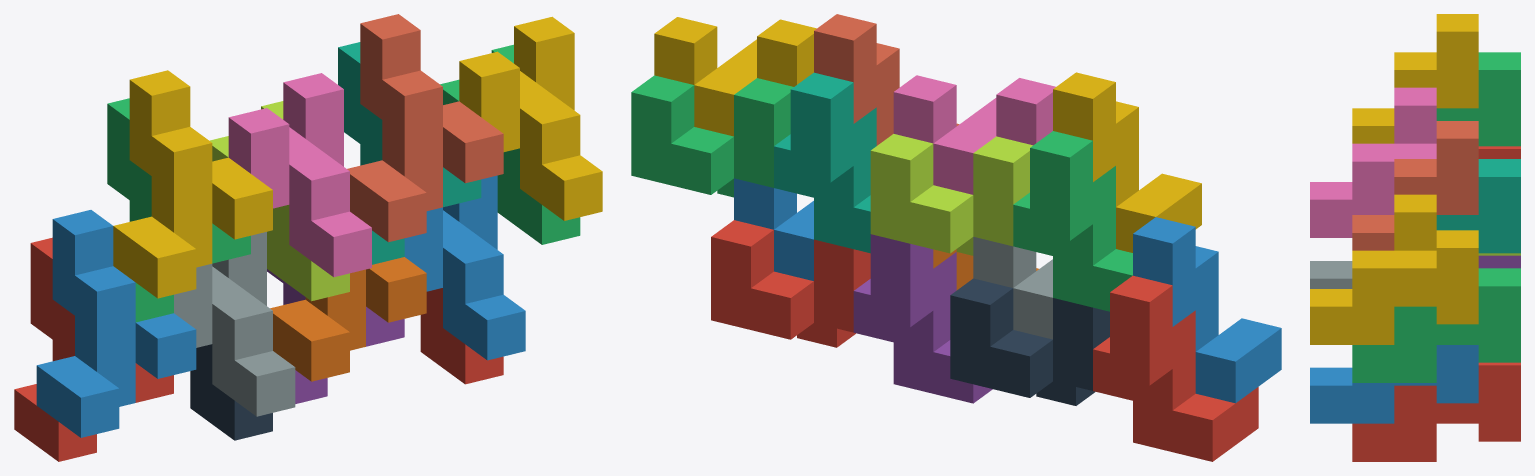
The model's file is tiling.obj.
3 renders of one model, left to right at view 1: azimuth 30°, elevation 25°; view 2: azimuth 150°, elevation 25°; view 3: azimuth 270°, elevation 25°, orthographic. The views are drawn at different scales.
Parts seen in each view (by area): view 1: copy_1_domain_4, copy_1_domain_8, copy_1_domain_2, copy_2_domain_8, copy_2_domain_4, copy_2_domain_6, copy_2_domain_2, copy_1_domain_6, copy_1_domain_1, copy_1_domain_3, copy_1_domain_7, copy_2_domain_7 (+4 smaller); view 2: copy_1_domain_1, copy_2_domain_3, copy_2_domain_7, copy_1_domain_3, copy_2_domain_1, copy_2_domain_5, copy_1_domain_7, copy_1_domain_5, copy_1_domain_2, copy_1_domain_4, copy_2_domain_4, copy_2_domain_8 (+4 smaller); view 3: copy_2_domain_8, copy_2_domain_7, copy_2_domain_5, copy_2_domain_4, copy_1_domain_4, copy_1_domain_8, copy_2_domain_6, copy_1_domain_7, copy_1_domain_3, copy_2_domain_2, copy_1_domain_5, copy_1_domain_1.
Boxes of the visible parts, x1,y1,x2,y2 form: copy_1_domain_4: [113, 70, 272, 298]; copy_1_domain_8: [347, 14, 503, 242]; copy_1_domain_2: [36, 210, 196, 437]; copy_2_domain_8: [459, 16, 602, 220]; copy_2_domain_4: [228, 73, 371, 277]; copy_2_domain_6: [404, 175, 525, 360]; copy_2_domain_2: [174, 232, 295, 416]; copy_1_domain_6: [270, 257, 426, 381]; copy_1_domain_1: [14, 237, 173, 461]; copy_1_domain_3: [107, 98, 250, 322]; copy_1_domain_7: [338, 42, 481, 264]; copy_2_domain_7: [440, 44, 580, 244]; copy_1_domain_1: [1093, 275, 1258, 461]; copy_2_domain_3: [870, 134, 1032, 255]; copy_2_domain_7: [631, 75, 793, 197]; copy_1_domain_3: [1013, 131, 1132, 311]; copy_2_domain_1: [950, 278, 1109, 405]; copy_2_domain_5: [711, 220, 870, 347]; copy_1_domain_7: [774, 72, 876, 253]; copy_1_domain_5: [853, 234, 992, 403]; copy_1_domain_2: [1133, 217, 1281, 403]; copy_1_domain_4: [1053, 72, 1201, 252]; copy_2_domain_4: [893, 75, 1055, 194]; copy_2_domain_8: [654, 17, 816, 136]; copy_2_domain_8: [1310, 194, 1478, 344]; copy_2_domain_7: [1352, 268, 1520, 382]; copy_2_domain_5: [1352, 362, 1520, 461]; copy_2_domain_4: [1310, 87, 1436, 237]; copy_1_domain_4: [1352, 14, 1478, 143]; copy_1_domain_8: [1352, 121, 1478, 250]; copy_2_domain_6: [1310, 345, 1478, 423]; copy_1_domain_7: [1436, 159, 1520, 253]; copy_1_domain_3: [1436, 52, 1520, 146]; copy_2_domain_2: [1310, 261, 1352, 288]; copy_1_domain_5: [1478, 255, 1520, 268]; copy_1_domain_1: [1478, 146, 1520, 158].
Bounding box in the file's own units: 14 × 8 × 5.
